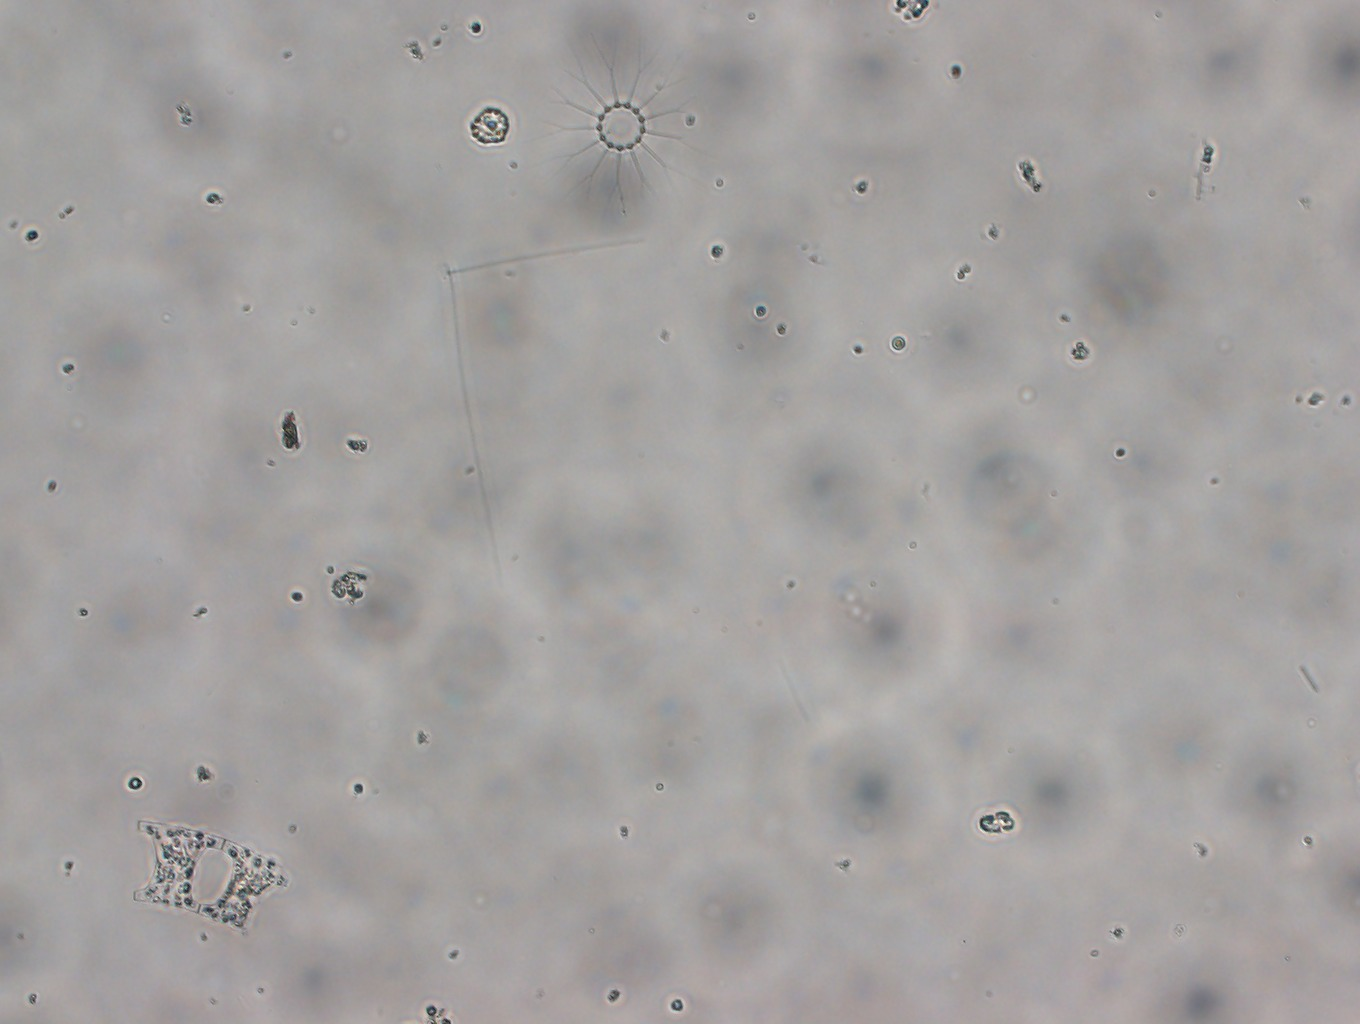bacteriastrum: (519, 39, 707, 224)
eucampia: (119, 814, 294, 939)
